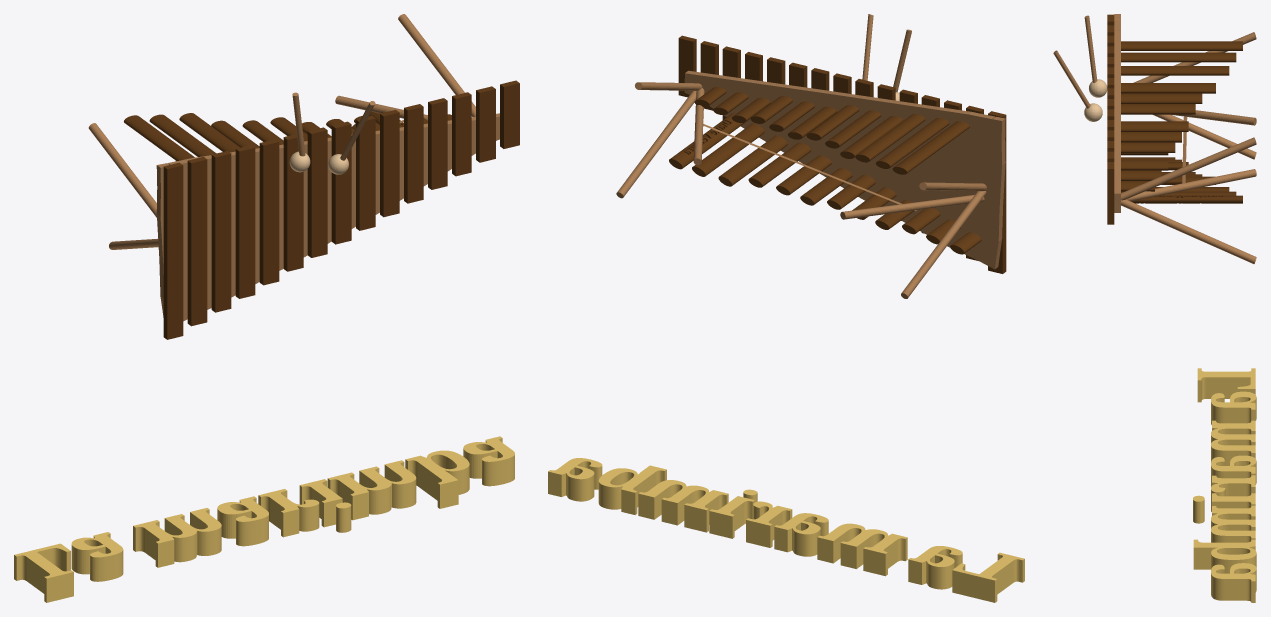
File: tinker.obj
The picture shows the model from 3 angles, left to right: view 1: azimuth 30°, elevation 25°; view 2: azimuth 150°, elevation 25°; view 3: azimuth 270°, elevation 25°; orthographic projection. The views are drawn at different scales.
Visible parts, largest first — view 1: group_0_6306067, group_0_15254888, group_0_11107152, group_0_14860437; view 2: group_0_11107152, group_0_6306067, group_0_15254888; view 3: group_0_6306067, group_0_15254888, group_0_11107152, group_0_14860437.
Boxes of the visible parts, <box> form: group_0_6306067: <box>124,80,519,339</box>; group_0_15254888: <box>14,436,514,602</box>; group_0_11107152: <box>88,14,499,321</box>; group_0_14860437: <box>289,151,348,174</box>; group_0_11107152: <box>616,14,1005,298</box>; group_0_6306067: <box>669,35,1006,273</box>; group_0_15254888: <box>548,458,1024,602</box>; group_0_6306067: <box>1107,14,1242,224</box>; group_0_15254888: <box>1193,368,1256,602</box>; group_0_11107152: <box>1053,14,1256,263</box>; group_0_14860437: <box>1084,79,1107,121</box>.
Bounding box in the file's own units: 108 × 108 × 43.63.
